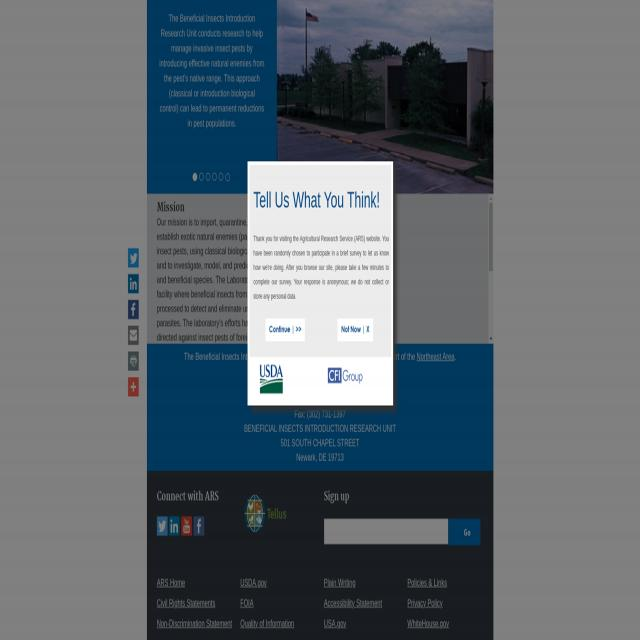button: (277, 0, 494, 194), (245, 495, 286, 532), (327, 364, 363, 393), (259, 359, 284, 398), (266, 318, 304, 342), (448, 519, 481, 545), (338, 320, 372, 341), (489, 204, 493, 270), (128, 248, 139, 268), (181, 516, 192, 536), (128, 274, 139, 293), (128, 300, 139, 319), (128, 326, 139, 345), (128, 352, 139, 371), (128, 378, 139, 397), (157, 516, 167, 536), (169, 516, 179, 536), (194, 516, 204, 536), (224, 172, 232, 184), (191, 171, 198, 183), (198, 171, 204, 183), (211, 172, 218, 182), (218, 172, 224, 183), (205, 172, 211, 182), (488, 193, 493, 203), (489, 335, 493, 343)
field: (324, 518, 448, 544)
